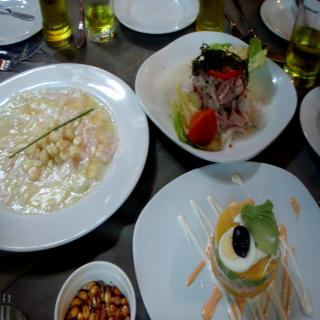tomato: (191, 102, 221, 140)
